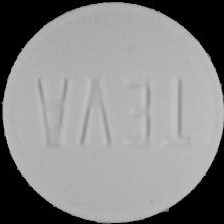68788-0430: (0, 0, 224, 224)
